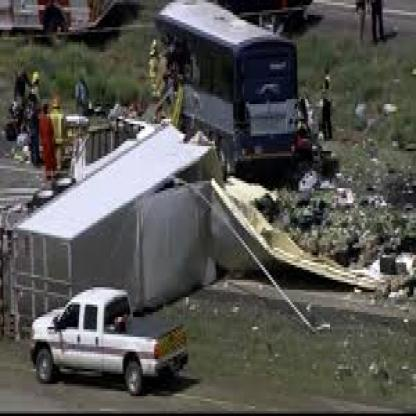accident: (23, 6, 398, 295)
